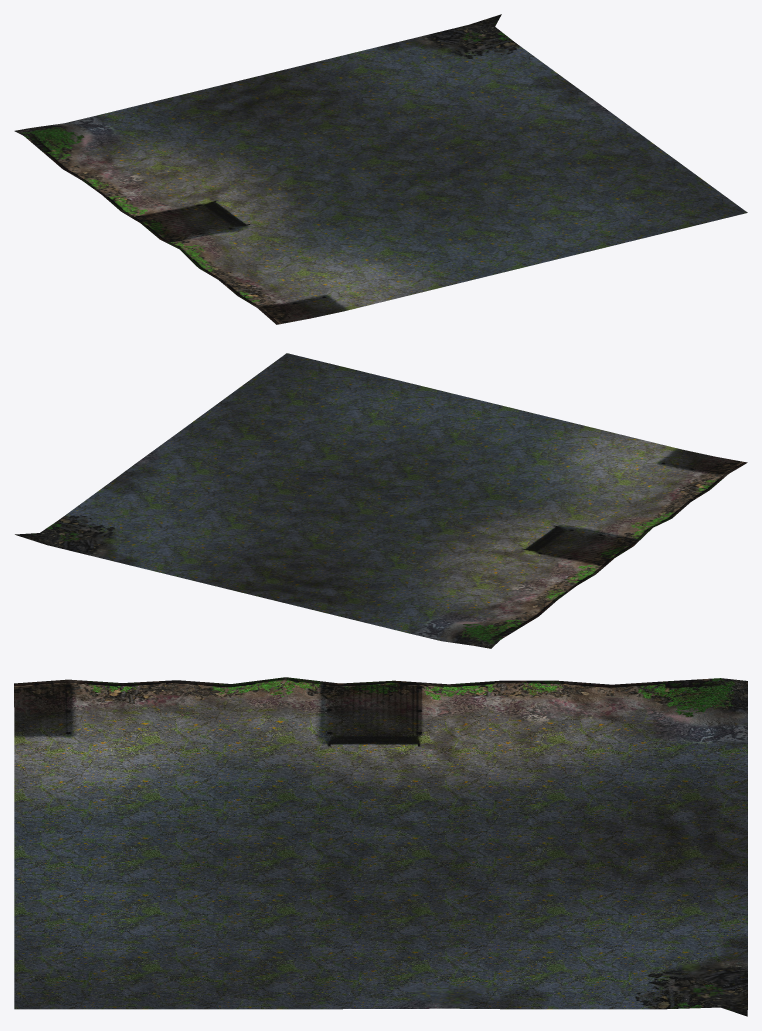
File: terrain1.glb
3 views of the same model, one above another, from view 1: azimuth 30°, elevation 25°; view 2: azimuth 150°, elevation 25°; view 3: azimuth 270°, elevation 25° (orthographic). The views are drawn at different scales.
Visible parts, largest first — view 1: Terrain.001; view 2: Terrain.001; view 3: Terrain.001.
Boxes of the visible parts, bbox=[...] form: Terrain.001: bbox=[14, 14, 747, 324]; Terrain.001: bbox=[15, 353, 747, 648]; Terrain.001: bbox=[14, 677, 747, 1016].
Bounding box in the file's own units: 45.6 × 0.6674 × 42.51.
Materials: 1 (1 with a texture image).
